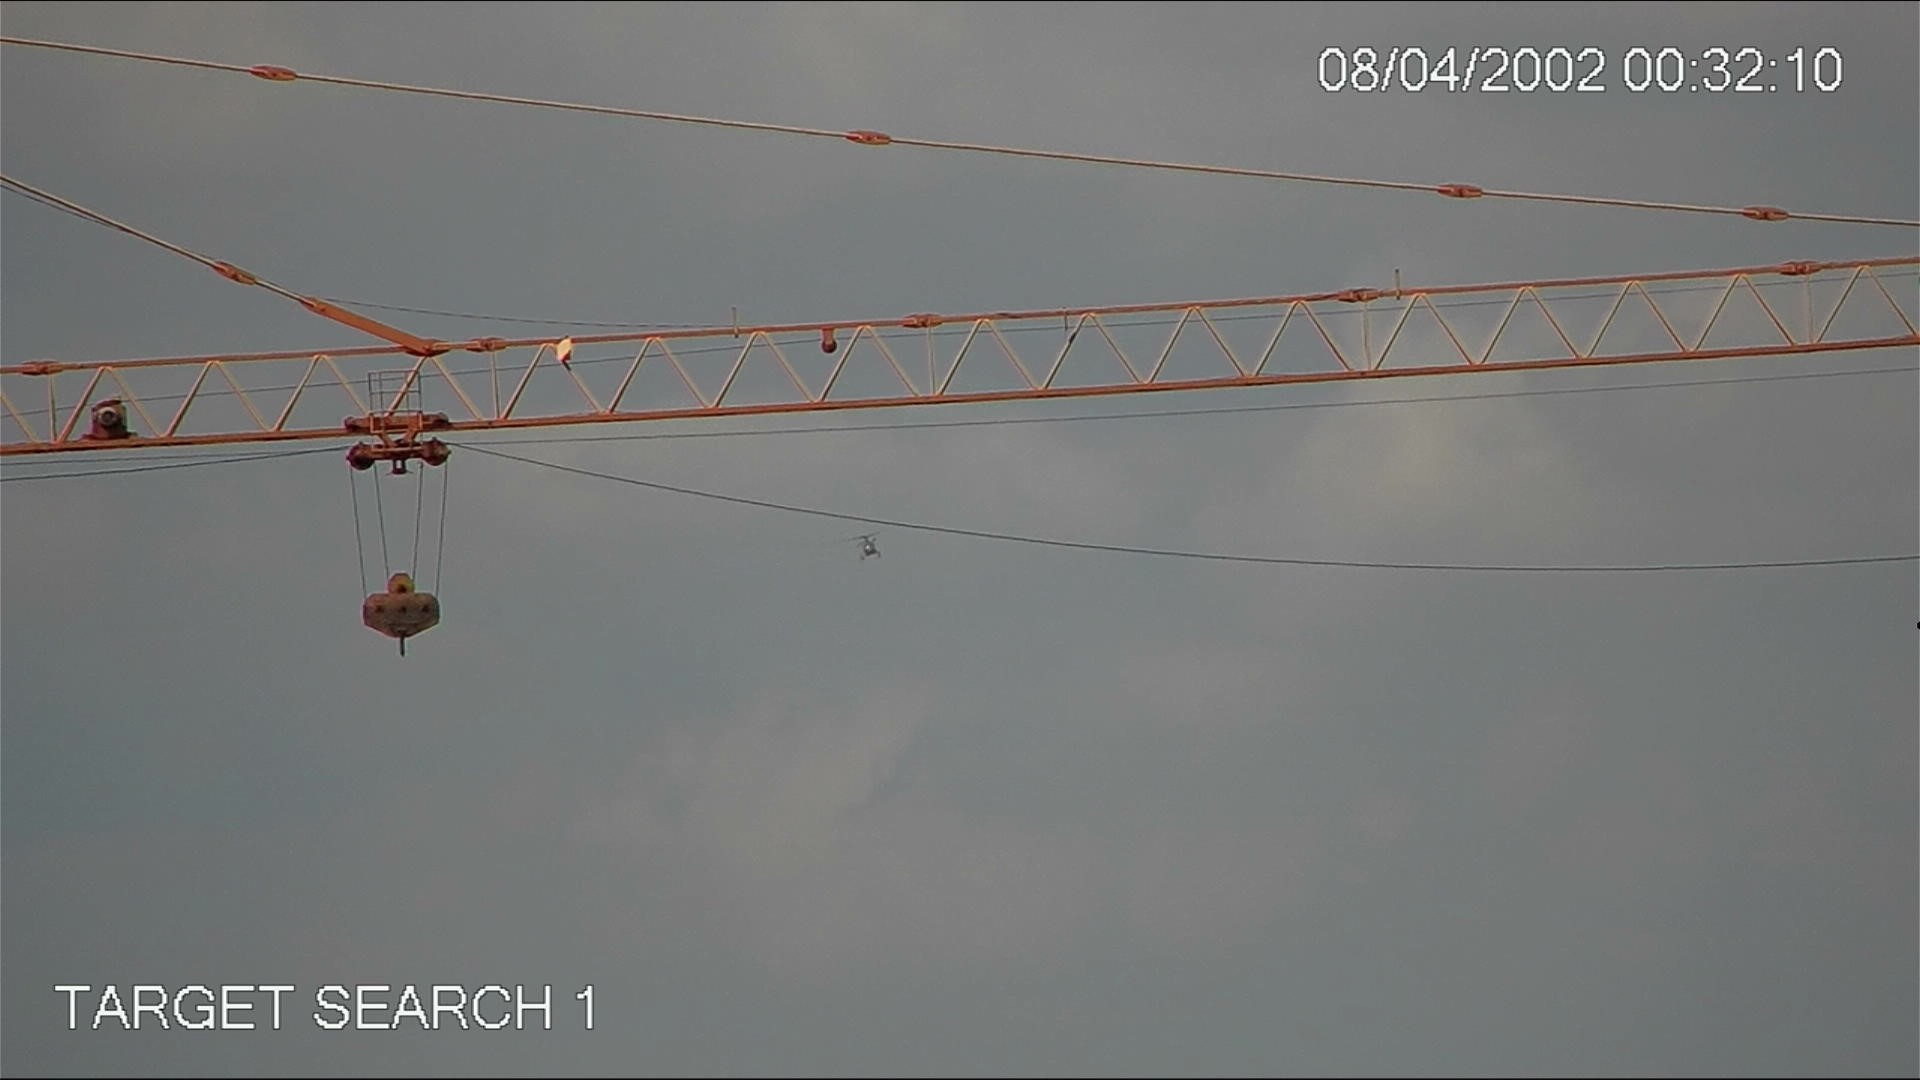SU_30: (837, 527, 889, 567)
